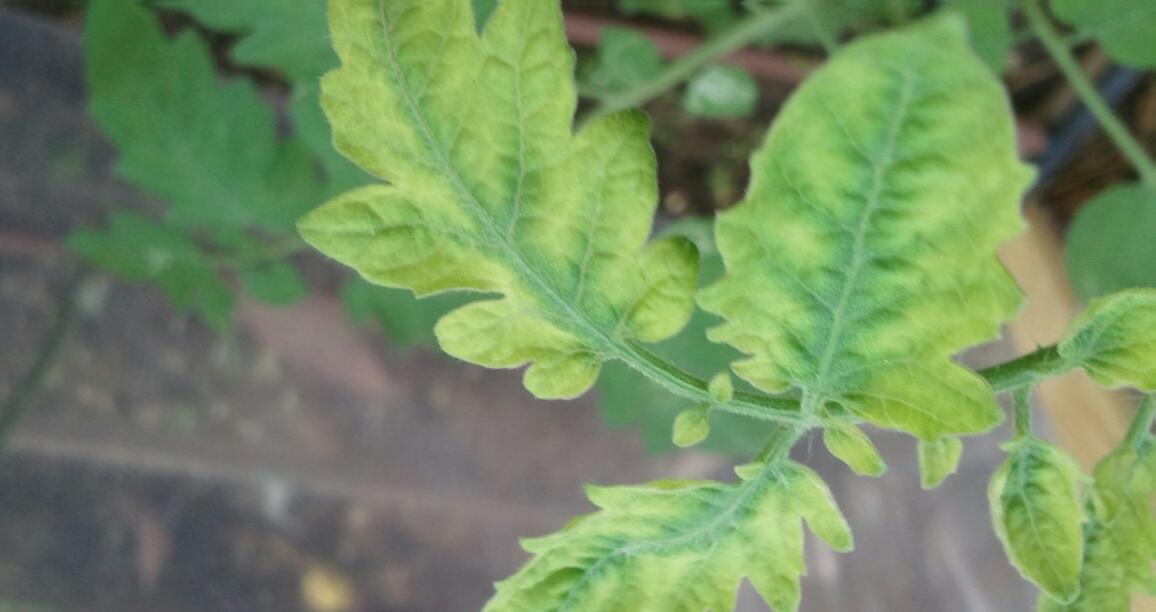Tomato leaf yellow virus: (320, 0, 697, 408), (720, 0, 1052, 420), (412, 437, 845, 612), (1025, 446, 1156, 612), (980, 433, 1082, 611)
